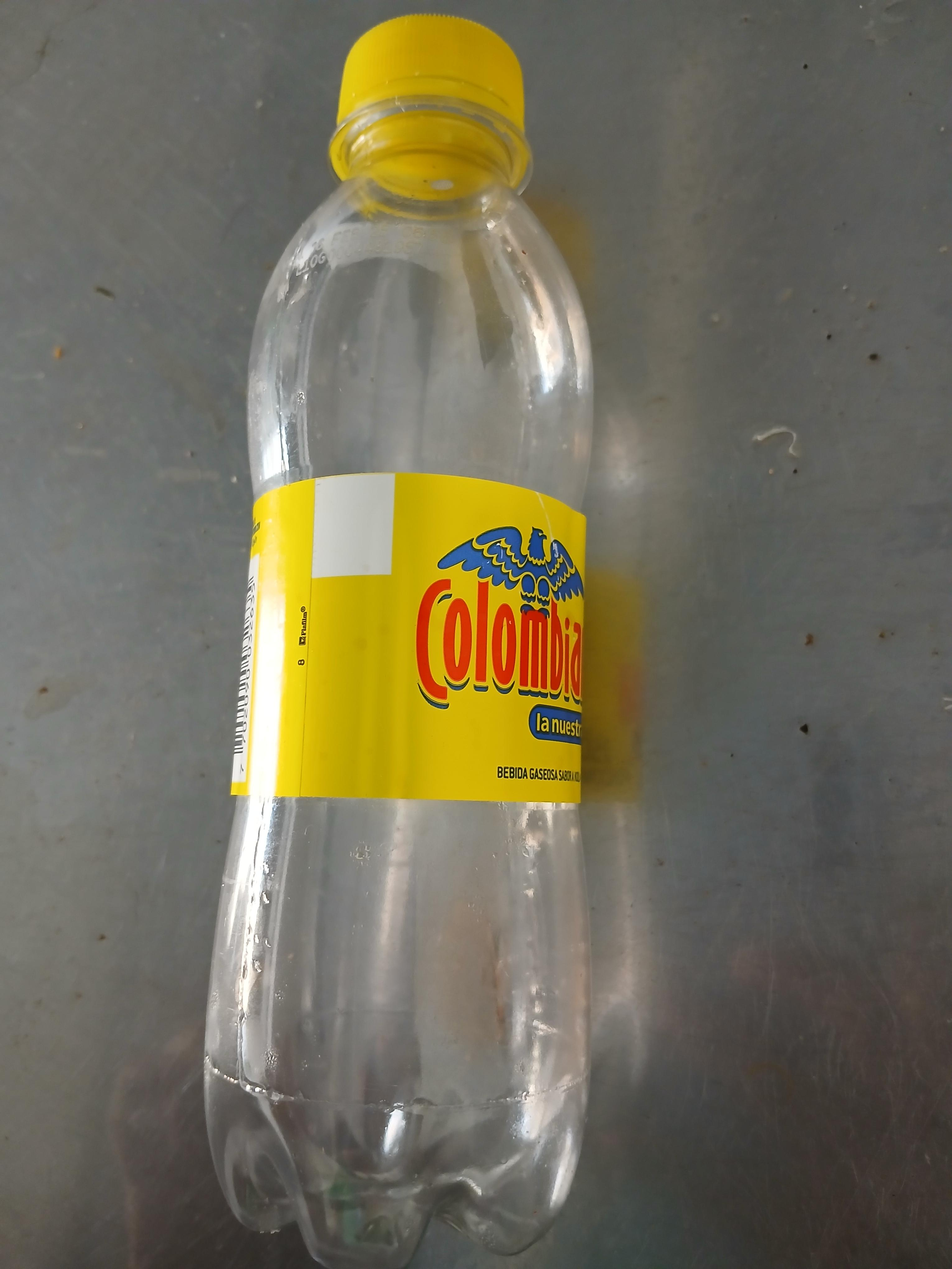Plastico: (204, 16, 591, 1265)
